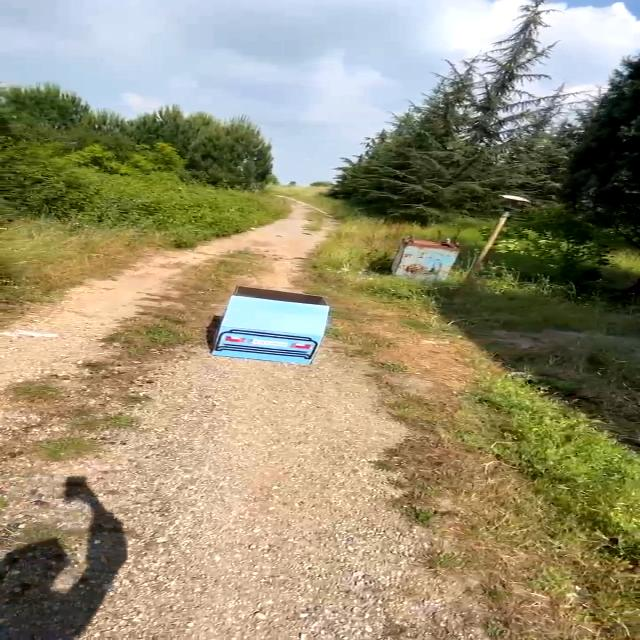blue_car: (185, 280, 343, 374)
